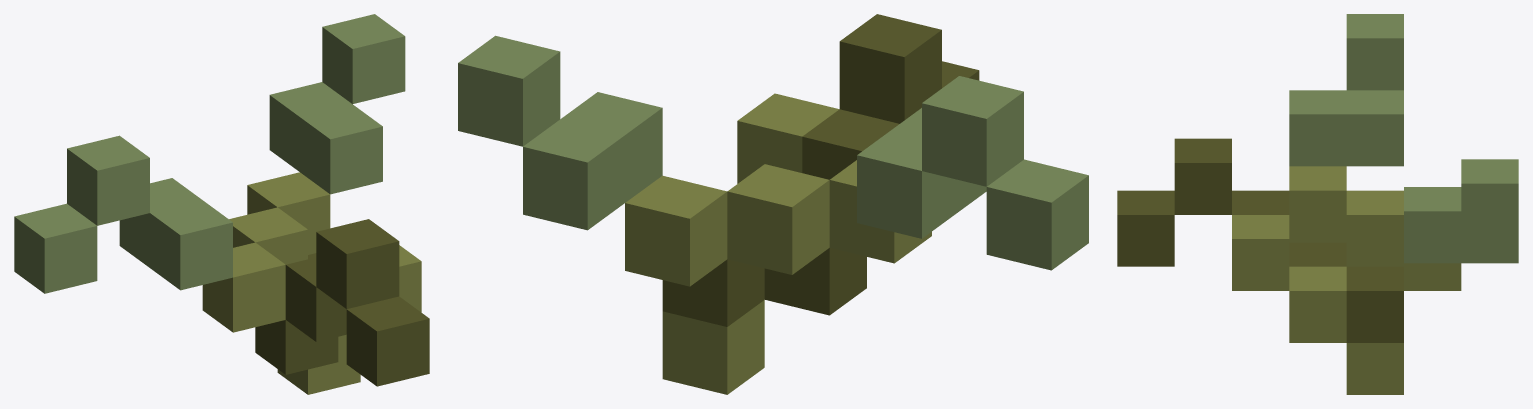
Rendered from lvl3-0.obj.
The picture shows the model from 3 angles, left to right: view 1: azimuth 30°, elevation 25°; view 2: azimuth 150°, elevation 25°; view 3: azimuth 270°, elevation 25°; orthographic projection. The views are drawn at different scales.
Bounding box in the file's own units: 0.8 × 0.5 × 0.7.
Materials: 1 (1 with a texture image).
